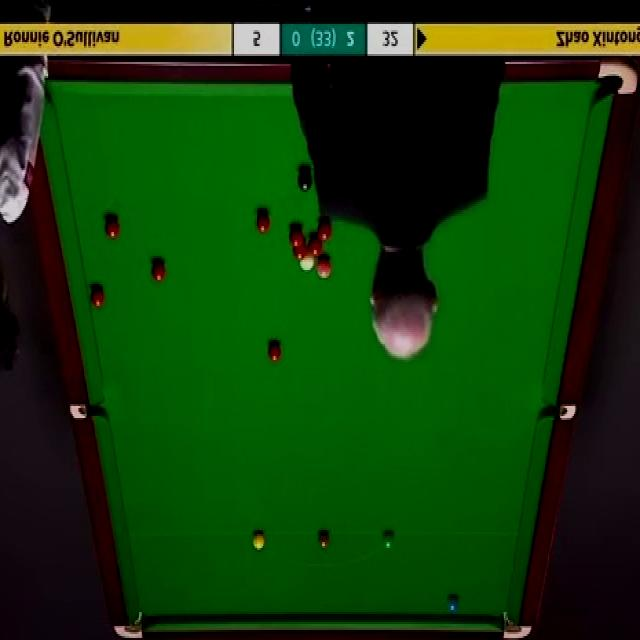black-ball: (298, 168, 312, 190)
blue-ball: (448, 596, 462, 613)
brown-ball: (318, 530, 331, 550)
green-ball: (381, 529, 395, 550)
pink-ball: (316, 256, 332, 281)
red-ball: (150, 256, 166, 286), (255, 208, 271, 235), (90, 284, 107, 308), (310, 238, 326, 260), (105, 215, 119, 240), (317, 220, 332, 243), (267, 340, 282, 362), (293, 239, 307, 262), (289, 226, 303, 247)
white-ball: (299, 252, 314, 271)
yellow-ball: (251, 530, 266, 551)
